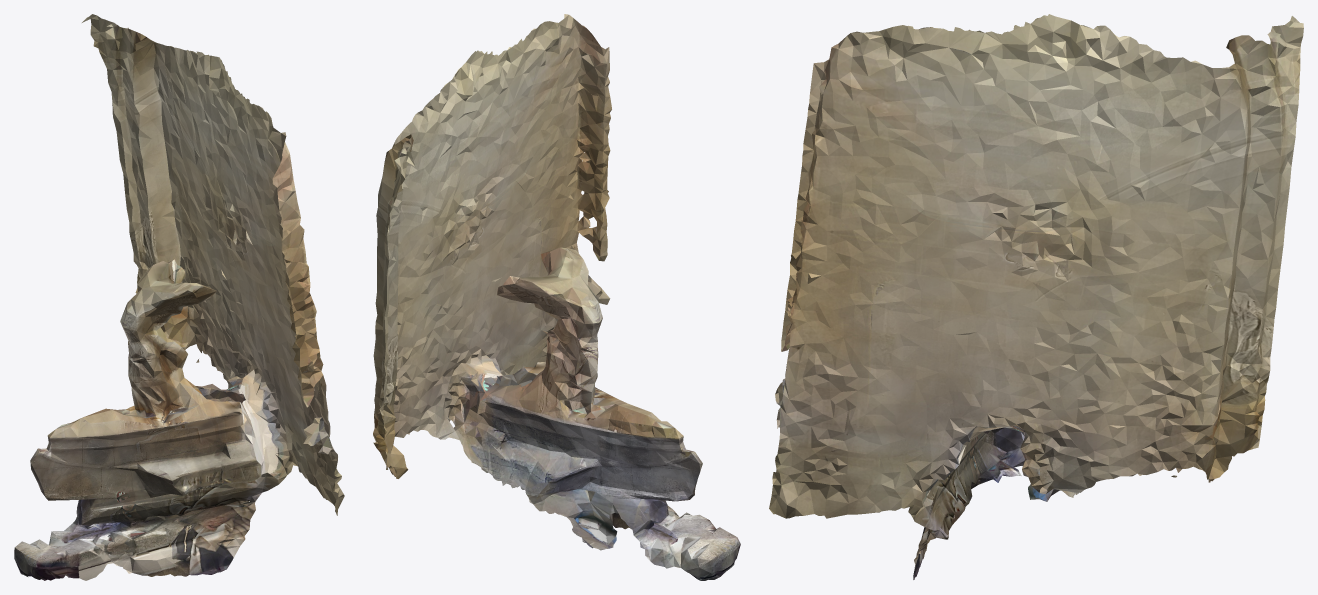
The model's file is samothrace.obj.
3 views of the same model, side by side, from view 1: azimuth 30°, elevation 25°; view 2: azimuth 150°, elevation 25°; view 3: azimuth 270°, elevation 25° (orthographic). The views are drawn at different scales.
Visible parts, largest first — view 1: samothrace:Mesh; view 2: samothrace:Mesh; view 3: samothrace:Mesh.
Part boxes in pixels (x1=…): samothrace:Mesh: x1=14, y1=14, x2=344, y2=580; samothrace:Mesh: x1=373, y1=14, x2=740, y2=580; samothrace:Mesh: x1=769, y1=14, x2=1303, y2=579.
Size of the model in its own units: 160 by 280 by 226.
Materials: 1 (1 with a texture image).
